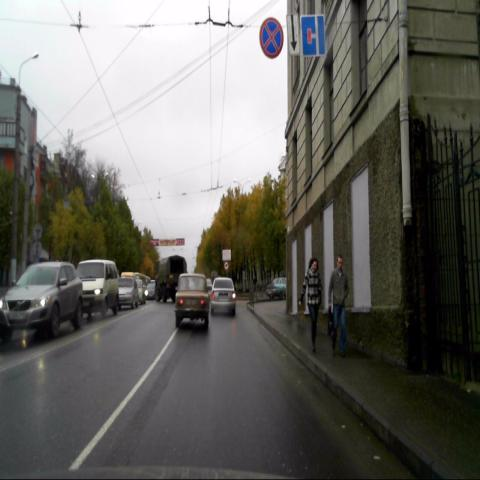6_8_3: (300, 15, 326, 56)
